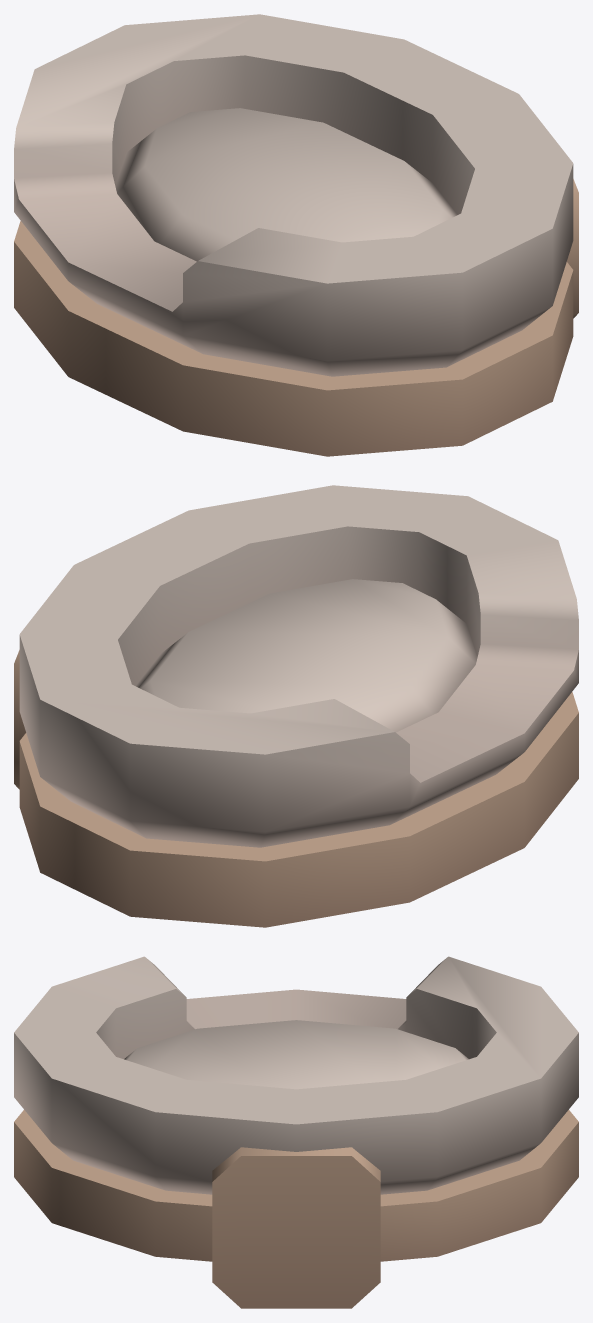
Rendered from cat-shelf-bed-round (%wall).glb.
The picture shows the model from 3 angles, top to bottom: view 1: azimuth 30°, elevation 25°; view 2: azimuth 150°, elevation 25°; view 3: azimuth 270°, elevation 25°; orthographic projection. The views are drawn at different scales.
Visible parts, largest first — view 1: cat-shelf-bed-round (%wall); view 2: cat-shelf-bed-round (%wall); view 3: cat-shelf-bed-round (%wall).
Part boxes in pixels (<box>): cat-shelf-bed-round (%wall): <box>14,14,578,456</box>; cat-shelf-bed-round (%wall): <box>14,485,578,927</box>; cat-shelf-bed-round (%wall): <box>14,956,578,1308</box>.
Bounding box in the file's own units: 0.4814 × 0.2155 × 0.6125.
